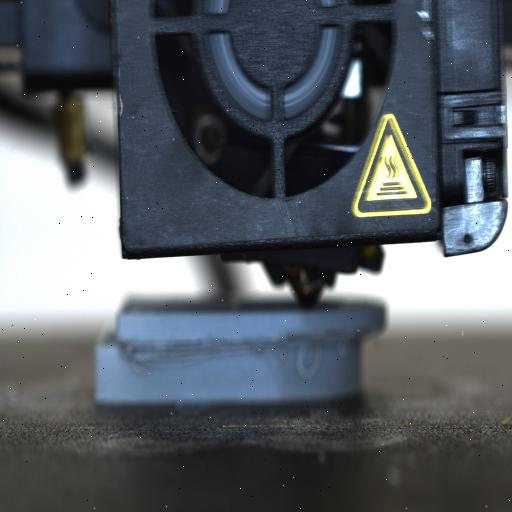layer_shift: (95, 322, 389, 350)
